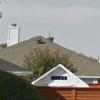Chimney: (5, 17, 24, 51)
